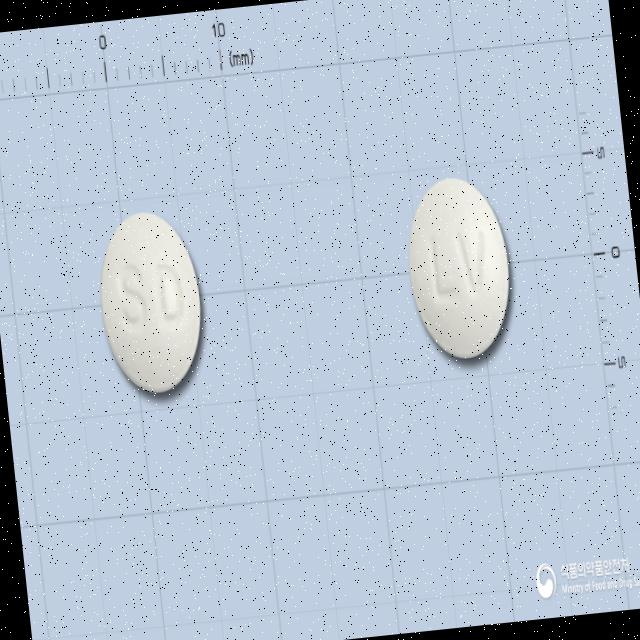Levarox: (92, 206, 210, 400), (401, 171, 518, 363)
